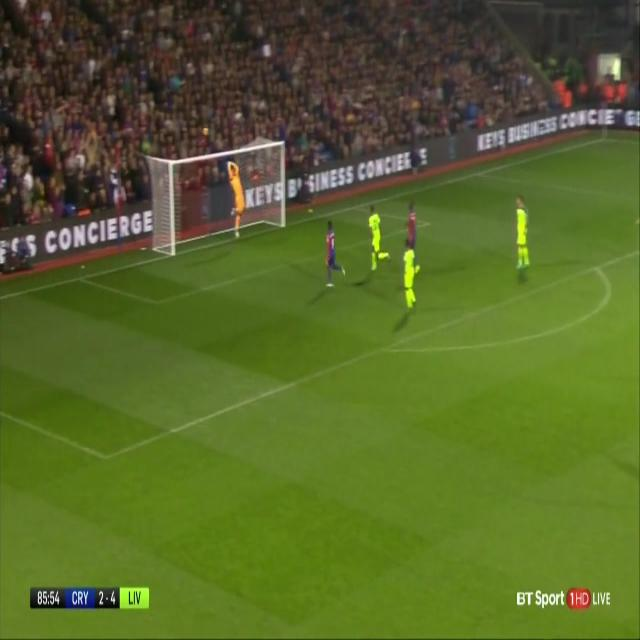Ball: (202, 124, 212, 142)
Goalkeeper: (226, 158, 246, 240)
Player: (512, 192, 534, 276), (366, 202, 390, 276), (322, 217, 346, 290), (401, 242, 419, 314), (402, 198, 420, 251)
